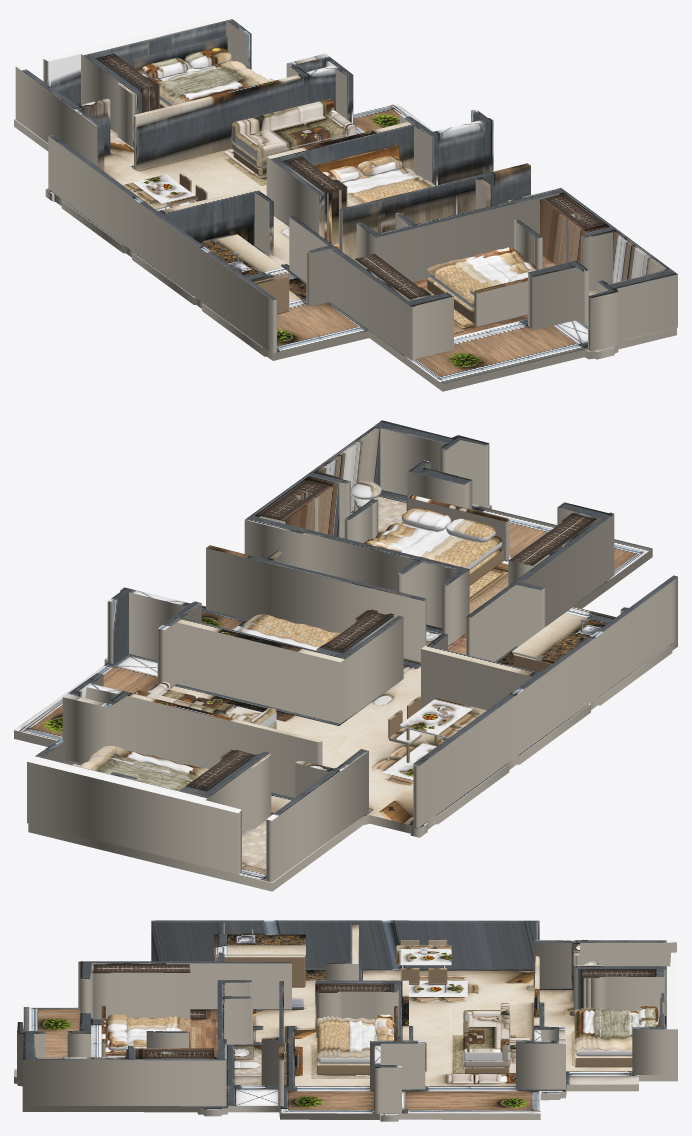
Rendered from p6-06-u06-2112-image-model.glb.
3 renders of one model, top to bottom at view 1: azimuth 30°, elevation 25°; view 2: azimuth 150°, elevation 25°; view 3: azimuth 270°, elevation 25°, orthographic. The views are drawn at different scales.
Visible parts, largest first — view 1: Partition walls, Apartment floor, Upholstered headboard.002, Stone worktop, Draped bed linen.004, Draped bed linen, Sofa back, Marble dining top, Draped bed linen.002, Upholstered headboard, Draped bed linen.001, Draped bed linen.005 (+9 smaller); view 2: Partition walls, Apartment floor, Stone worktop, Draped bed linen.004, Marble dining top, Draped bed linen, Upholstered headboard.002, Draped bed linen.001, Draped bed linen.003, Draped bed linen.002, Tailored pillow.004, Tailored pillow.005 (+1 smaller); view 3: Partition walls, Apartment floor, Stone worktop, Draped bed linen, Draped bed linen.002, Marble dining top, Draped bed linen.004, Kitchen cabinets, Draped bed linen.001, Walnut upholstered base, Draped bed linen.003, Walnut upholstered base.001 (+12 smaller).
Part boxes in pixels (<box>): Partition walls: <box>15,14,677,360</box>; Apartment floor: <box>14,78,676,391</box>; Upholstered headboard.002: <box>474,277,527,327</box>; Stone worktop: <box>200,234,290,283</box>; Draped bed linen.004: <box>426,250,537,295</box>; Draped bed linen: <box>155,61,263,103</box>; Sofa back: <box>232,99,334,142</box>; Marble dining top: <box>123,174,197,209</box>; Draped bed linen.002: <box>343,168,423,202</box>; Upholstered headboard: <box>130,36,227,73</box>; Draped bed linen.001: <box>168,73,269,104</box>; Draped bed linen.005: <box>429,247,524,278</box>; Partition walls: <box>27,420,677,882</box>; Apartment floor: <box>14,490,677,891</box>; Stone worktop: <box>512,606,615,663</box>; Draped bed linen.004: <box>375,523,490,567</box>; Marble dining top: <box>399,698,486,738</box>; Draped bed linen: <box>79,746,208,791</box>; Upholstered headboard.002: <box>406,494,508,560</box>; Draped bed linen.001: <box>90,745,206,781</box>; Draped bed linen.003: <box>244,614,339,642</box>; Draped bed linen.002: <box>237,616,340,650</box>; Tailored pillow.004: <box>446,518,495,542</box>; Tailored pillow.005: <box>401,507,451,531</box>; Partition walls: <box>17,920,677,1113</box>; Apartment floor: <box>14,968,677,1121</box>; Stone worktop: <box>214,934,305,955</box>; Draped bed linen: <box>574,1009,639,1050</box>; Draped bed linen.002: <box>317,1017,375,1058</box>; Marble dining top: <box>396,945,451,965</box>; Draped bed linen.004: <box>126,1017,191,1048</box>; Kitchen cabinets: <box>215,955,305,987</box>; Draped bed linen.001: <box>581,1007,601,1049</box>; Walnut upholstered base: <box>574,1051,632,1067</box>; Draped bed linen.003: <box>323,1016,341,1057</box>; Walnut upholstered base.001: <box>317,1058,369,1074</box>.
Bounding box in the file's own units: 7.96 × 1.3 × 14.94.
Materials: 14 (3 with a texture image).
